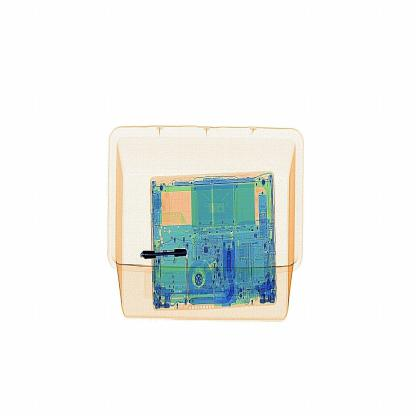knife: (140, 247, 193, 264)
